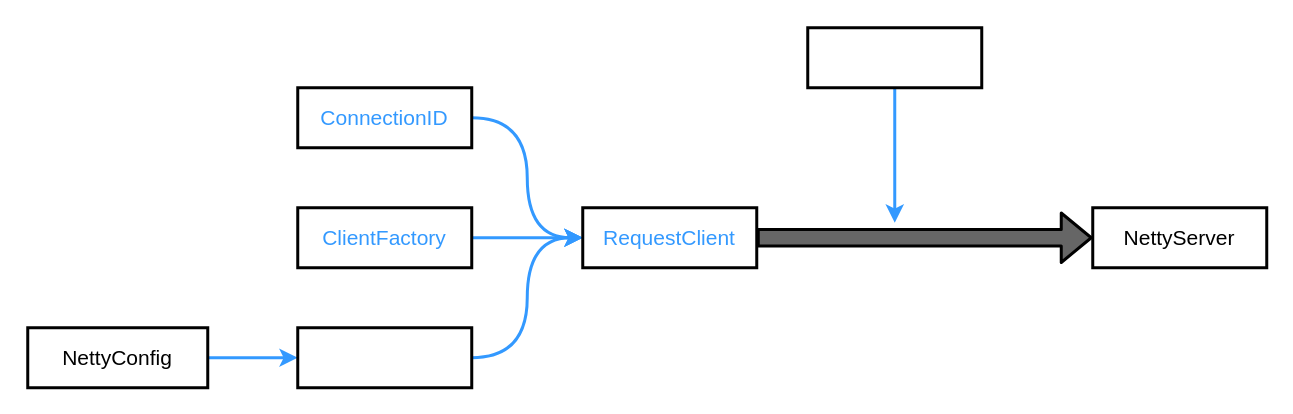
Image size: 1293x414. Some labels were removed from this diagram. Here are the shapes that lost their labels. From the top down, the centre of each, then its label:
the point at 894,57: NettyMessage
the point at 384,357: NettyClient
